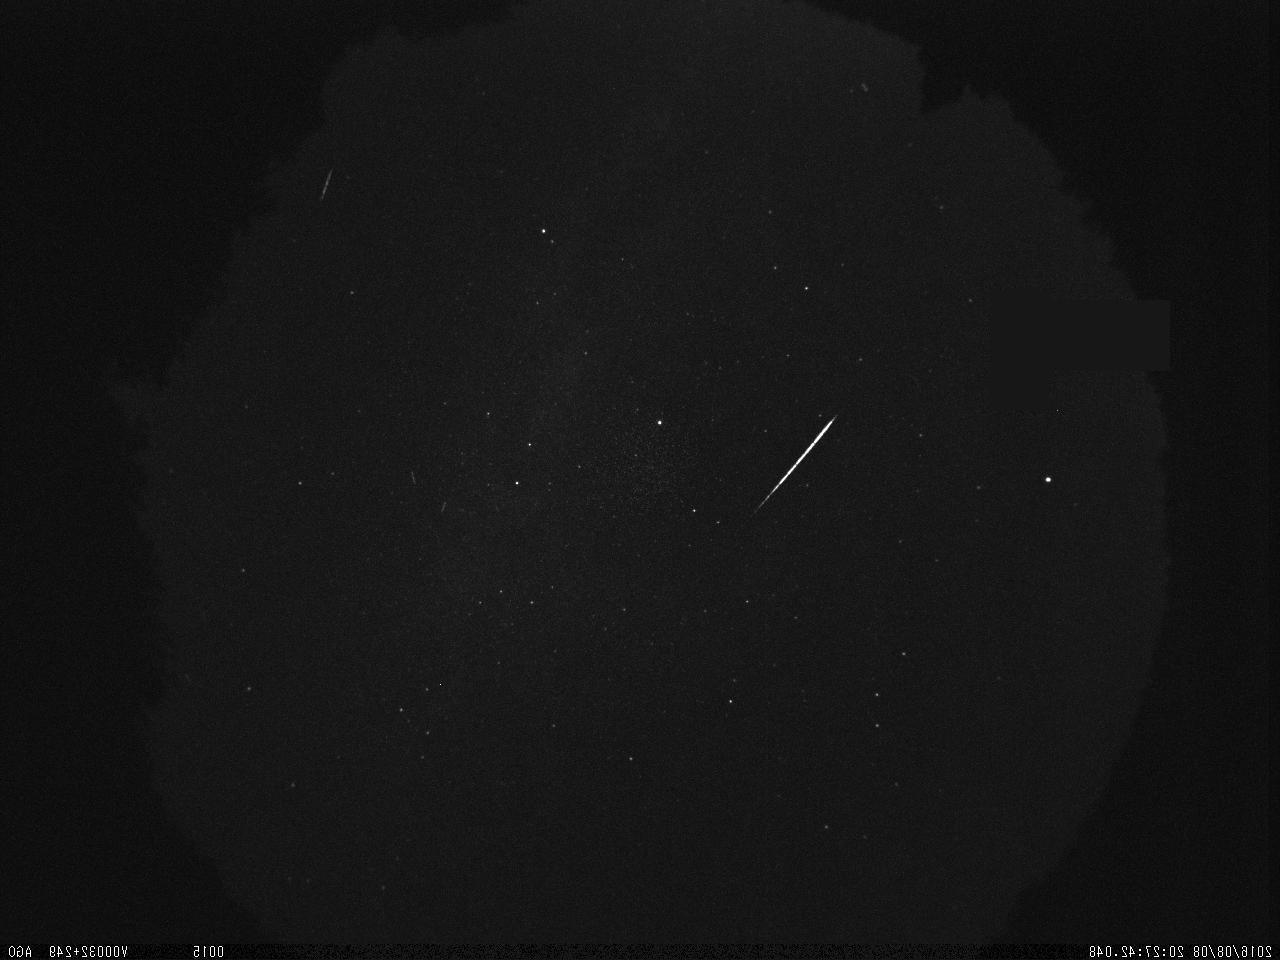meteor: (735, 401, 851, 527)
